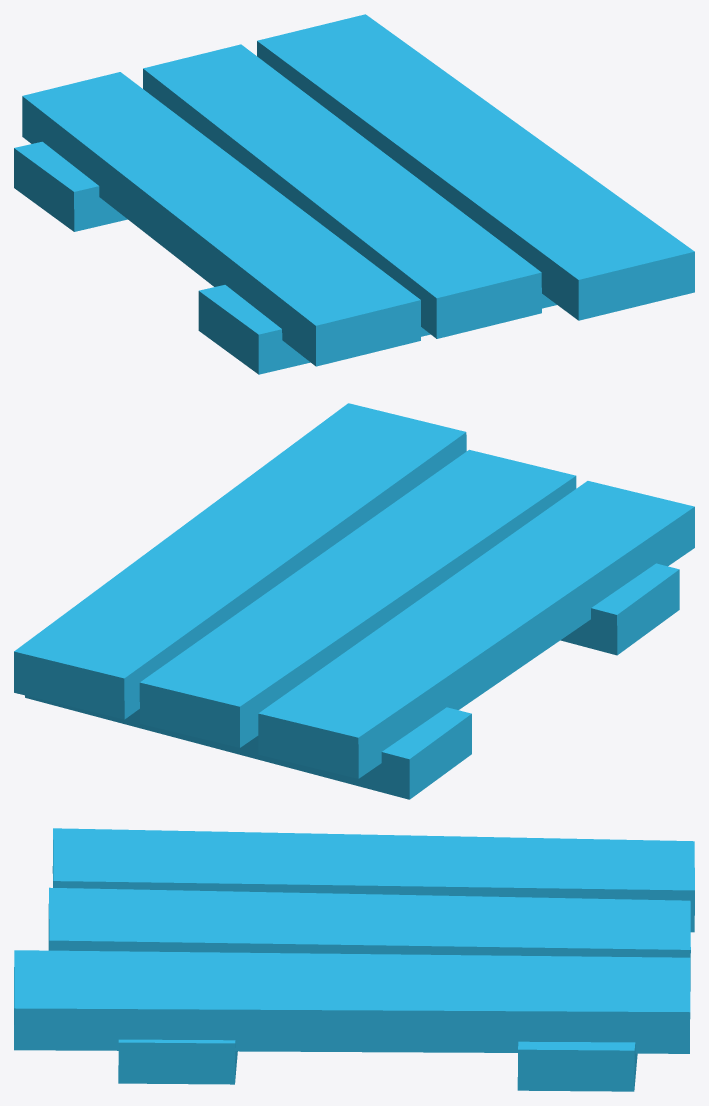
File: Small_Pallete.fbx
The picture shows the model from 3 angles, top to bottom: view 1: azimuth 30°, elevation 25°; view 2: azimuth 150°, elevation 25°; view 3: azimuth 270°, elevation 25°; orthographic projection. The views are drawn at different scales.
Visible parts, largest first — view 1: Small_Pallete; view 2: Small_Pallete; view 3: Small_Pallete.
Boxes of the visible parts, x1=… form: Small_Pallete: x1=14, y1=14, x2=694, y2=374; Small_Pallete: x1=14, y1=403, x2=694, y2=799; Small_Pallete: x1=14, y1=828, x2=694, y2=1091.
Size of the model in its own units: 55.2 by 9.7 by 79.77.
